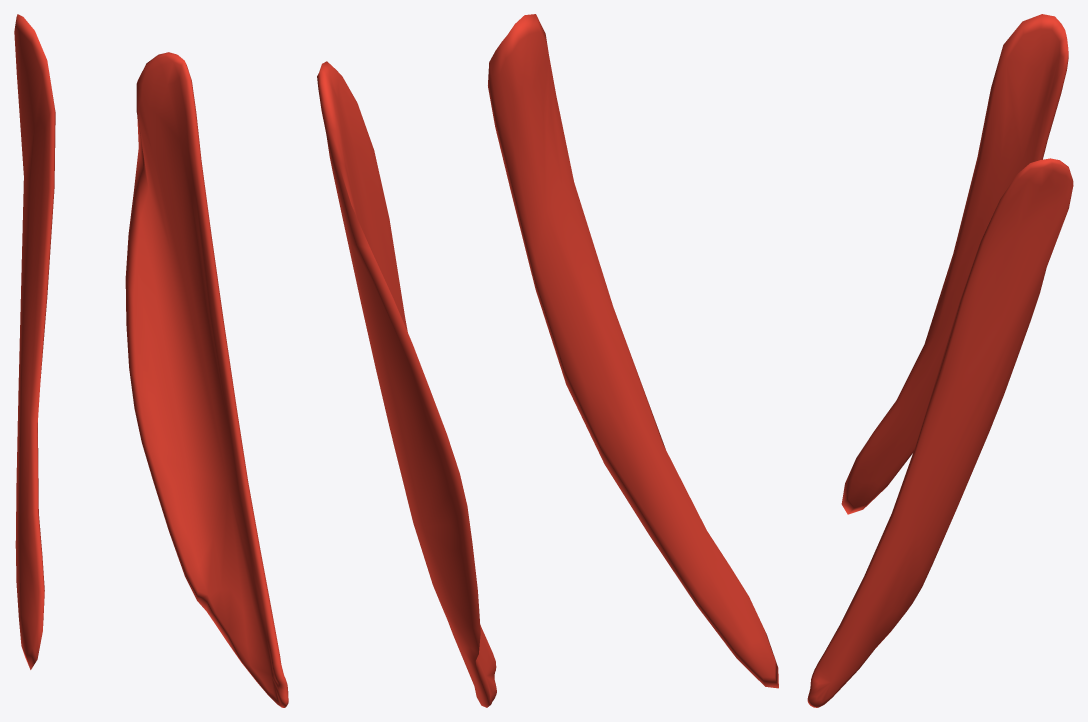
Rendered from Dorsal_interossei_3rd_metacarpal_right.glb.
3 views of the same model, side by side, from view 1: azimuth 30°, elevation 25°; view 2: azimuth 150°, elevation 25°; view 3: azimuth 270°, elevation 25° (orthographic). The views are drawn at different scales.
Visible parts, largest first — view 1: Dorsal_interosseus_muscles_d_3d_metacarpal_bone.r_Generated_; view 2: Dorsal_interosseus_muscles_d_3d_metacarpal_bone.r_Generated_; view 3: Dorsal_interosseus_muscles_d_3d_metacarpal_bone.r_Generated_.
Boxes of the visible parts, box(x1,y1,x2,y2) form: Dorsal_interosseus_muscles_d_3d_metacarpal_bone.r_Generated_: box(14, 14, 288, 707); Dorsal_interosseus_muscles_d_3d_metacarpal_bone.r_Generated_: box(317, 14, 778, 707); Dorsal_interosseus_muscles_d_3d_metacarpal_bone.r_Generated_: box(807, 14, 1073, 707).
Bounding box in the file's own units: 0.013 × 0.0319 × 0.0123.
